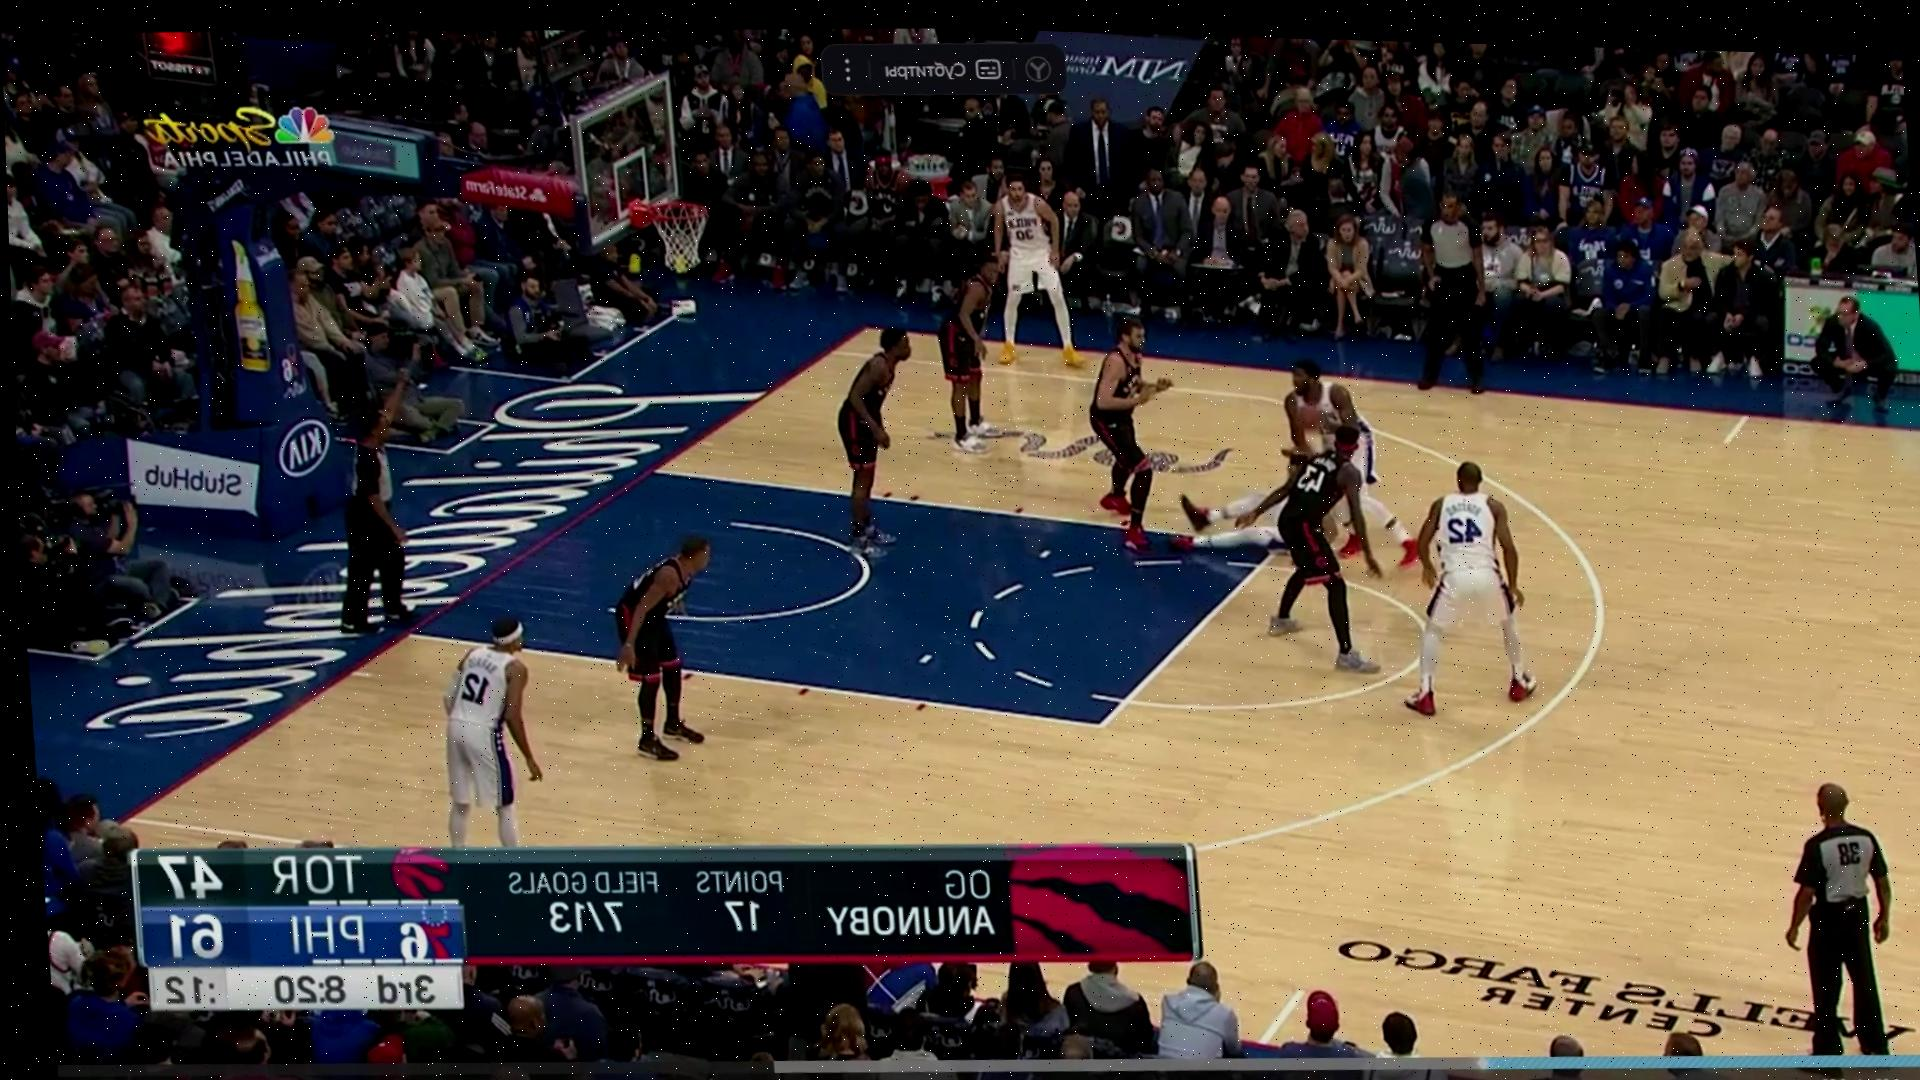foul: (1060, 330, 1344, 576)
